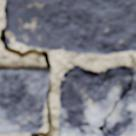brick: (6, 0, 135, 54), (61, 67, 135, 135), (0, 68, 48, 134), (107, 82, 135, 135)
crack: (0, 0, 53, 135), (76, 72, 135, 135)
